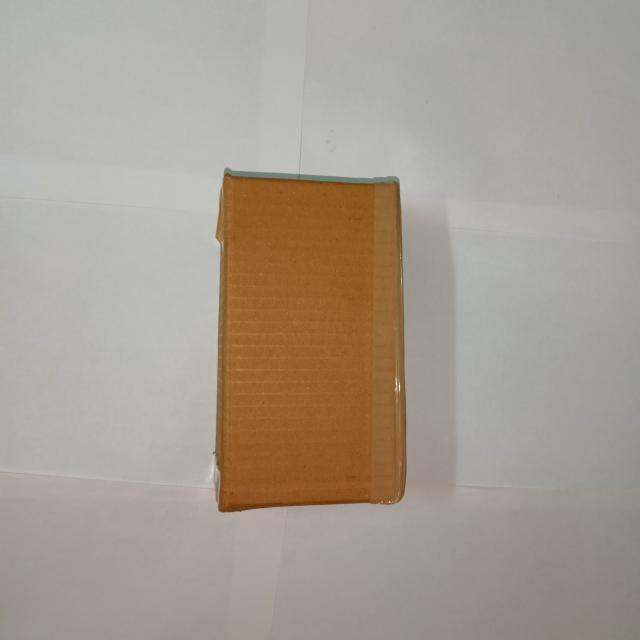box: (224, 176, 407, 505)
